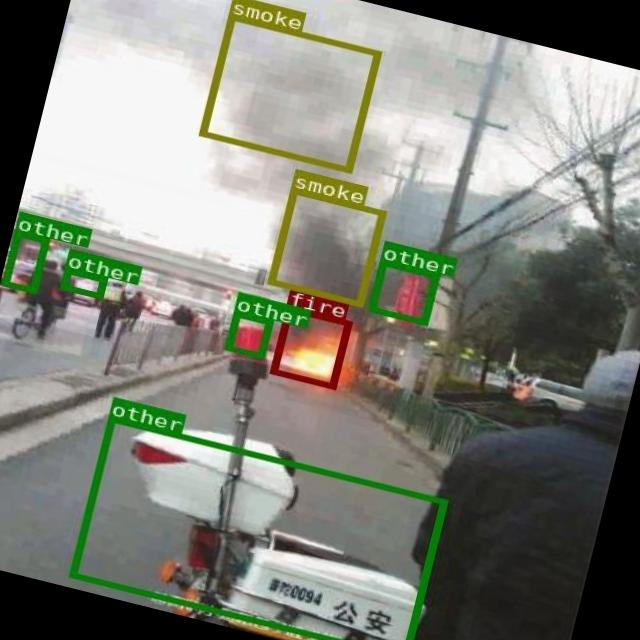fire: (269, 304, 350, 387)
smoke: (198, 12, 380, 170), (266, 186, 386, 307)
